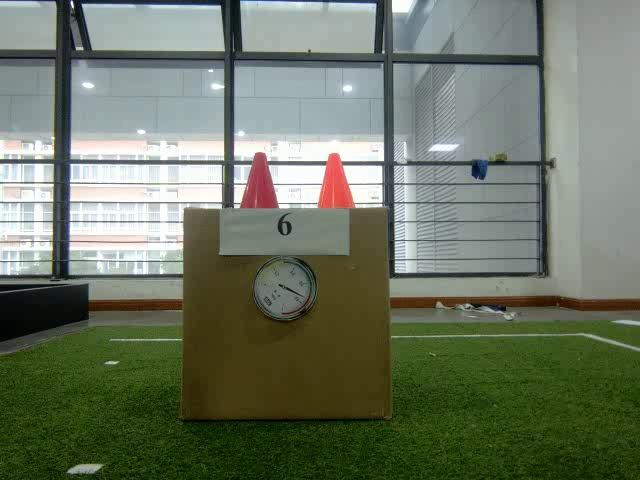6: (277, 213, 296, 237)
Dashboard: (253, 256, 318, 321)
orange_barrel: (318, 152, 358, 207)
red_barrel: (241, 152, 279, 208)
ssi: (262, 296, 274, 309)
